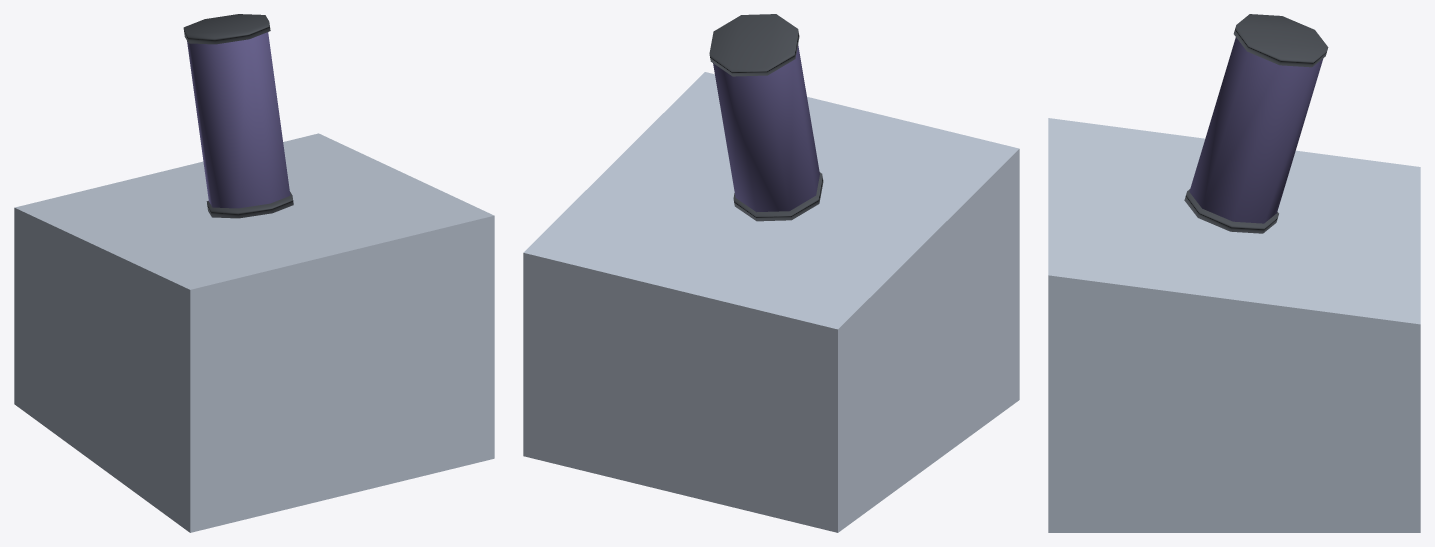
File: BoxGene_Blue.fbx
3 renders of one model, left to right at view 1: azimuth 30°, elevation 25°; view 2: azimuth 150°, elevation 25°; view 3: azimuth 270°, elevation 25°, orthographic. The views are drawn at different scales.
Parts seen in each view (by area): view 1: pCube4, pCylinder1, pCylinder2, pCylinder3; view 2: pCube4, pCylinder1, pCylinder2, pCylinder3; view 3: pCube4, pCylinder1, pCylinder2, pCylinder3.
Boxes of the visible parts, bbox=[...] form: pCube4: bbox=[14, 133, 494, 532]; pCylinder1: bbox=[187, 32, 290, 208]; pCylinder2: bbox=[183, 14, 270, 44]; pCylinder3: bbox=[206, 192, 293, 218]; pCube4: bbox=[523, 72, 1019, 532]; pCylinder1: bbox=[713, 44, 819, 212]; pCylinder2: bbox=[709, 14, 799, 76]; pCylinder3: bbox=[733, 172, 823, 221]; pCube4: bbox=[1048, 118, 1420, 532]; pCylinder1: bbox=[1189, 37, 1323, 223]; pCylinder2: bbox=[1233, 14, 1328, 67]; pCylinder3: bbox=[1184, 189, 1278, 233].
Size of the model in its own units: 4.54 by 5.73 by 4.54.
